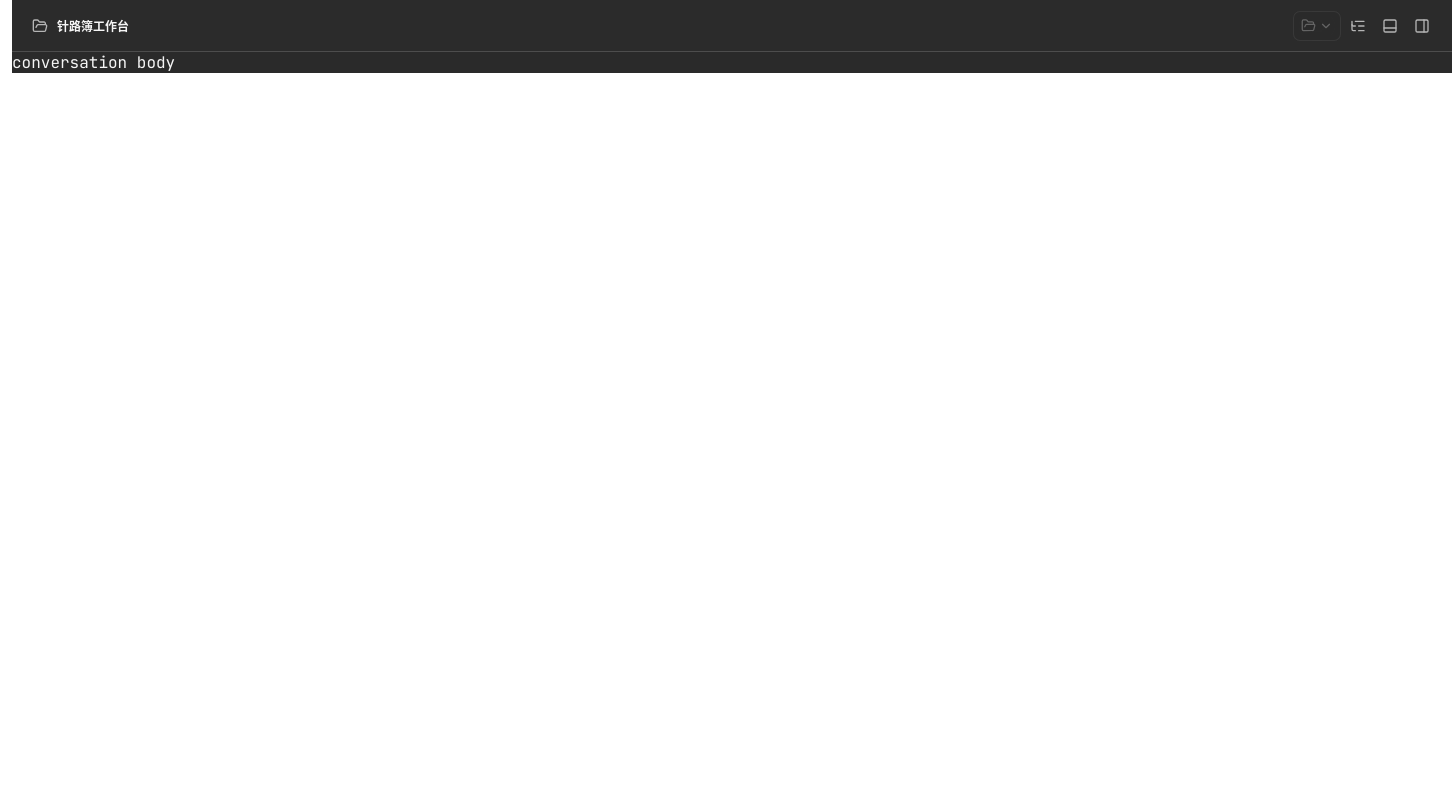
WorkbenchDock › keeps summary, bottom panel, and sidecar independently controllable
Expected: the text "conversation body" is shown, [12,52,175,73]
Click the button named "切换摘要".
click(1358, 26)  # box [1343,10,1373,40]
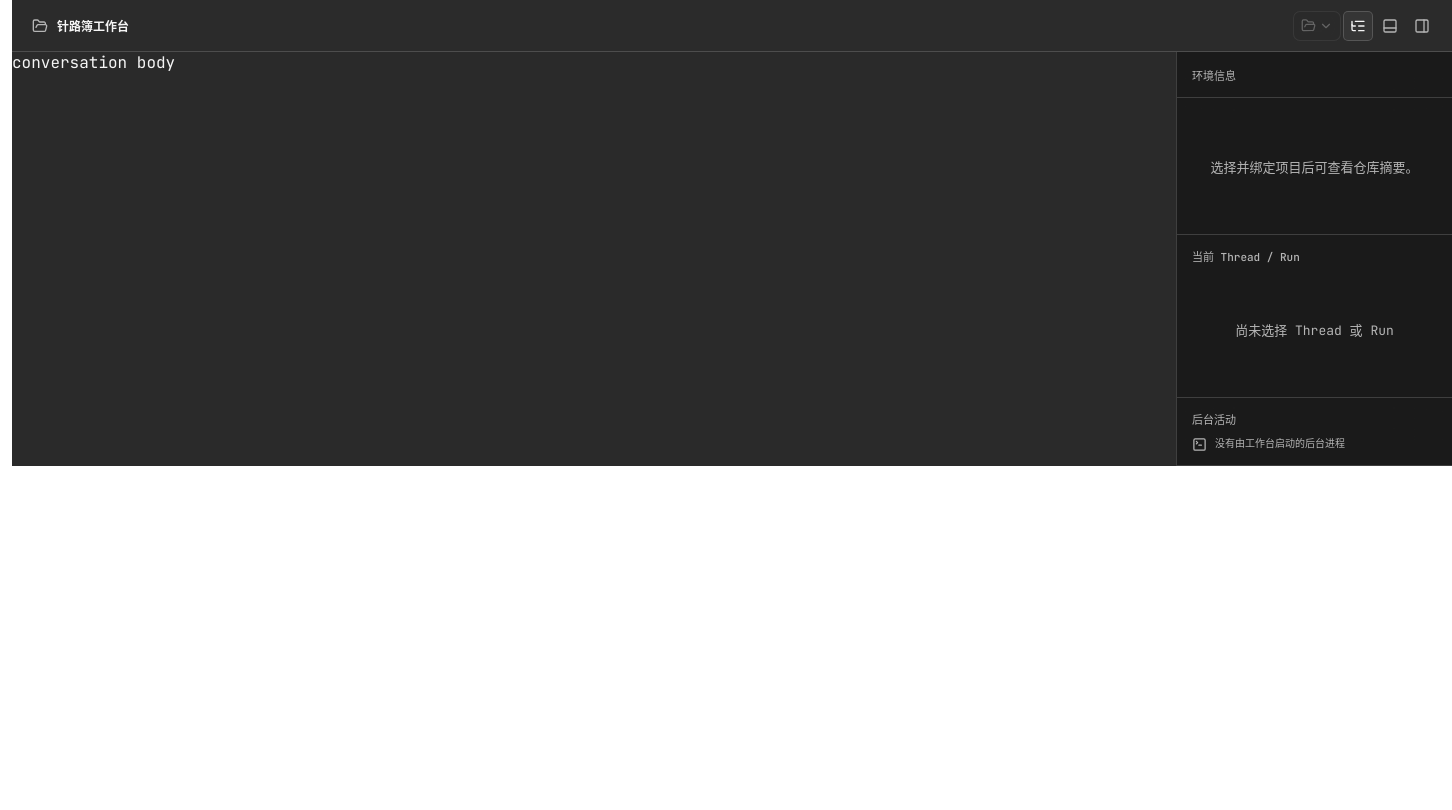
Result: the element "摘要" is shown at [1176,52,1451,466]
Click the button named "切换底部面板显示".
click(1390, 26)  # box [1375,10,1405,40]
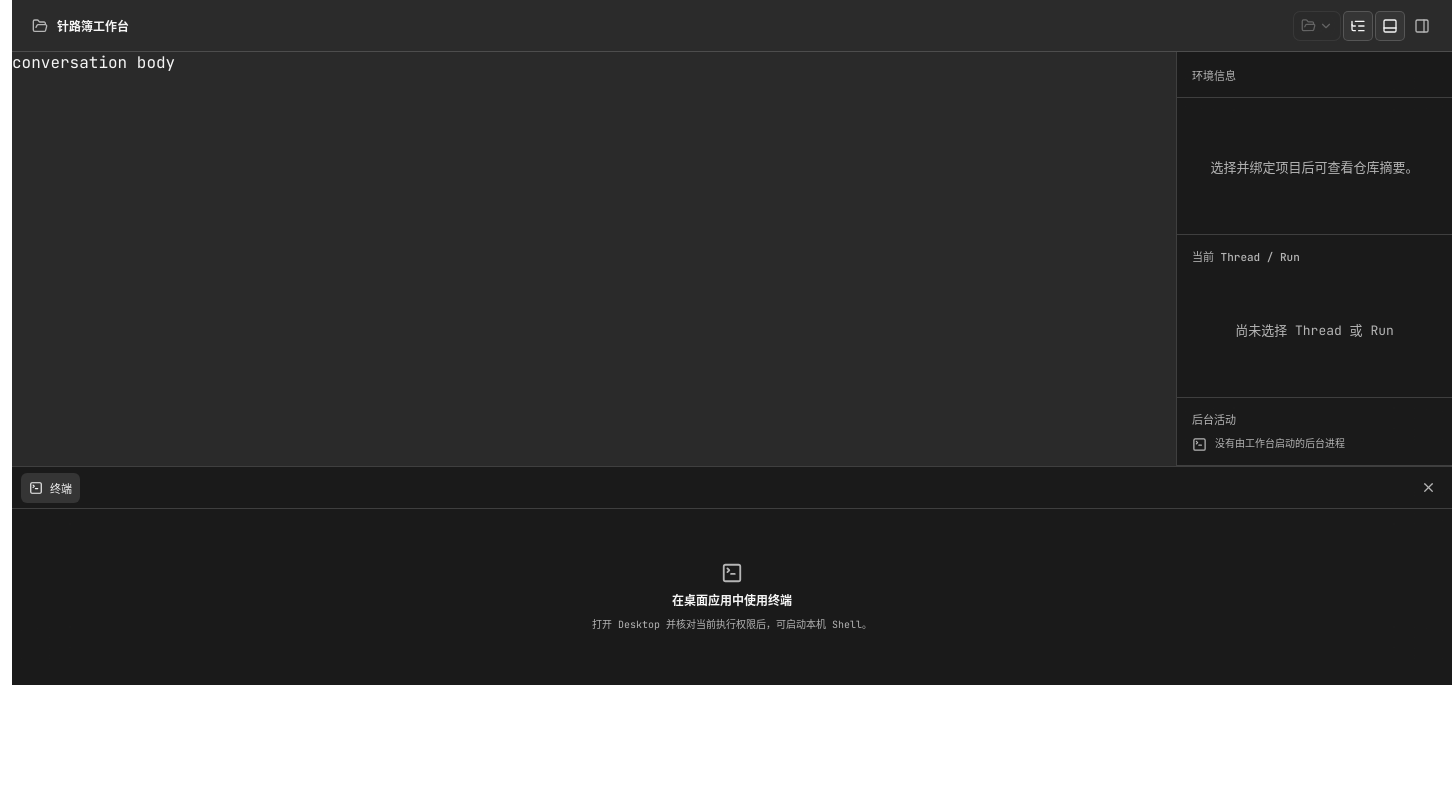
Result: the element named "底部面板" is shown at [12,466,1451,685]
Result: the text "在桌面应用中使用终端" is shown at [672,591,792,609]
Click the button named "显示或隐藏右侧栏".
click(1422, 26)  # box [1407,10,1437,40]
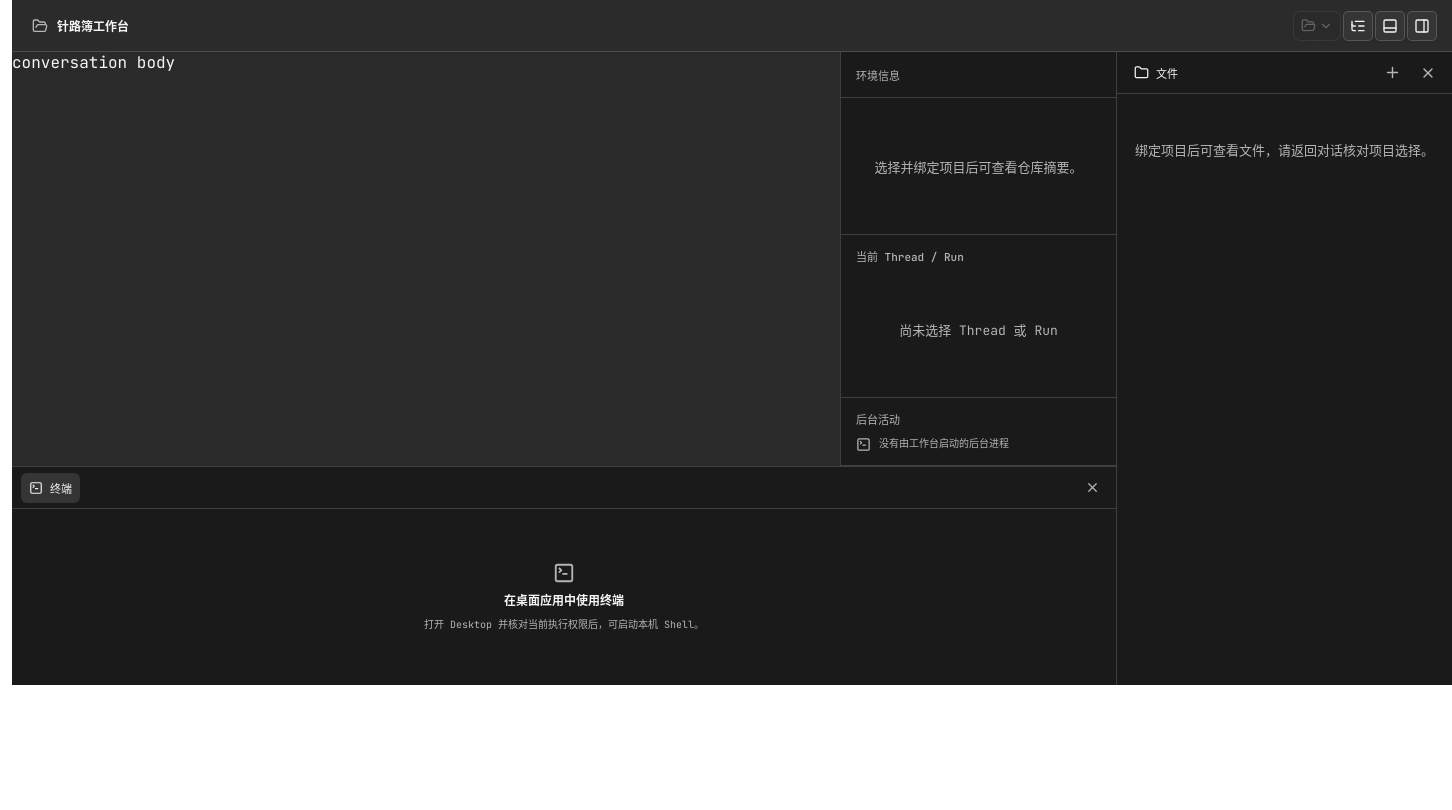
Result: the text "选择并绑定项目后可查看仓库摘要。" is shown at [874,158,1082,176]
Result: the element named "右侧工具栏" is shown at [1116,52,1451,685]
Click the button named "关闭右侧栏".
click(1428, 72)  # box [1413,58,1443,88]
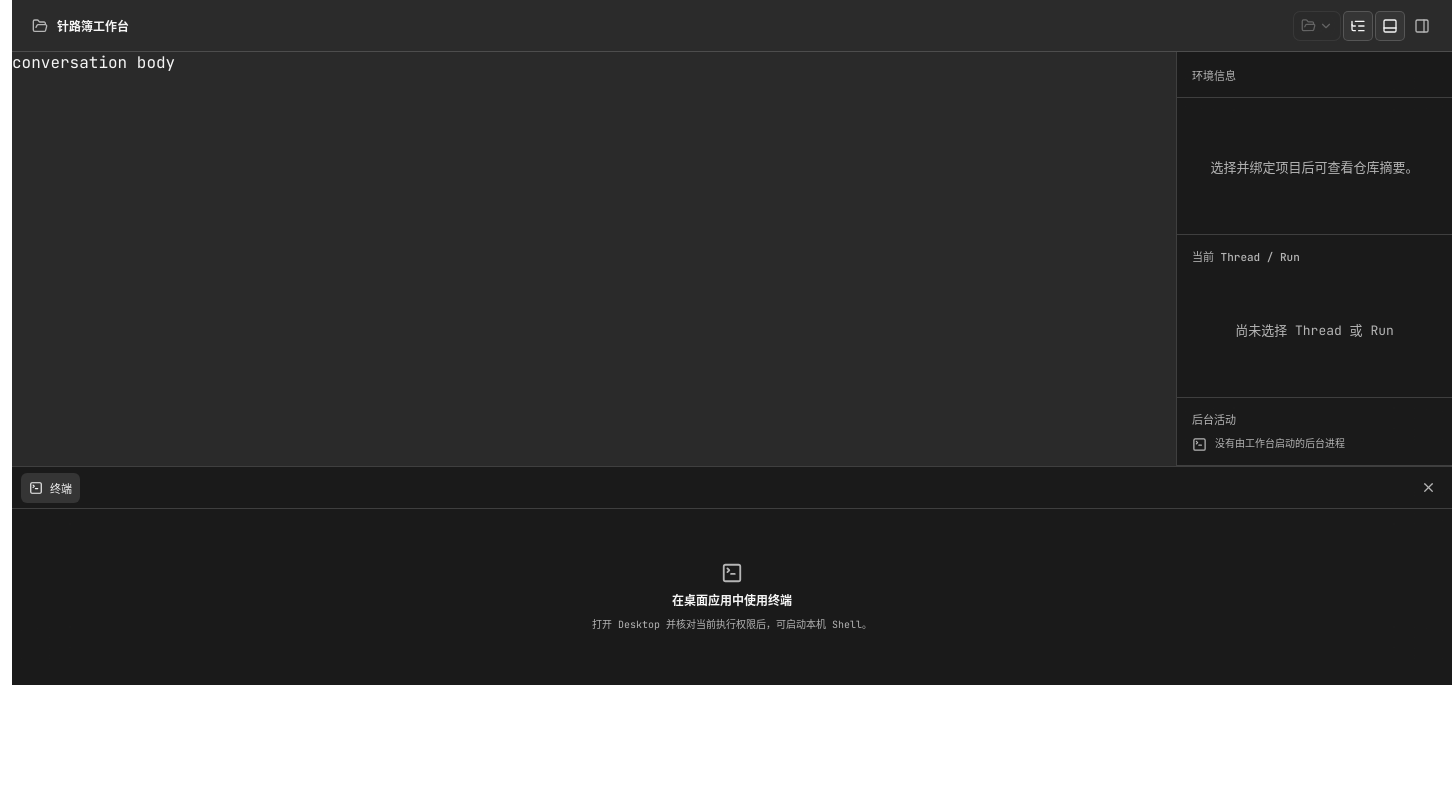
Result: the element "摘要" is shown at [1176,52,1451,466]
Result: the element named "底部面板" is shown at [12,466,1451,685]
Result: the element "右侧工具栏" is gone
